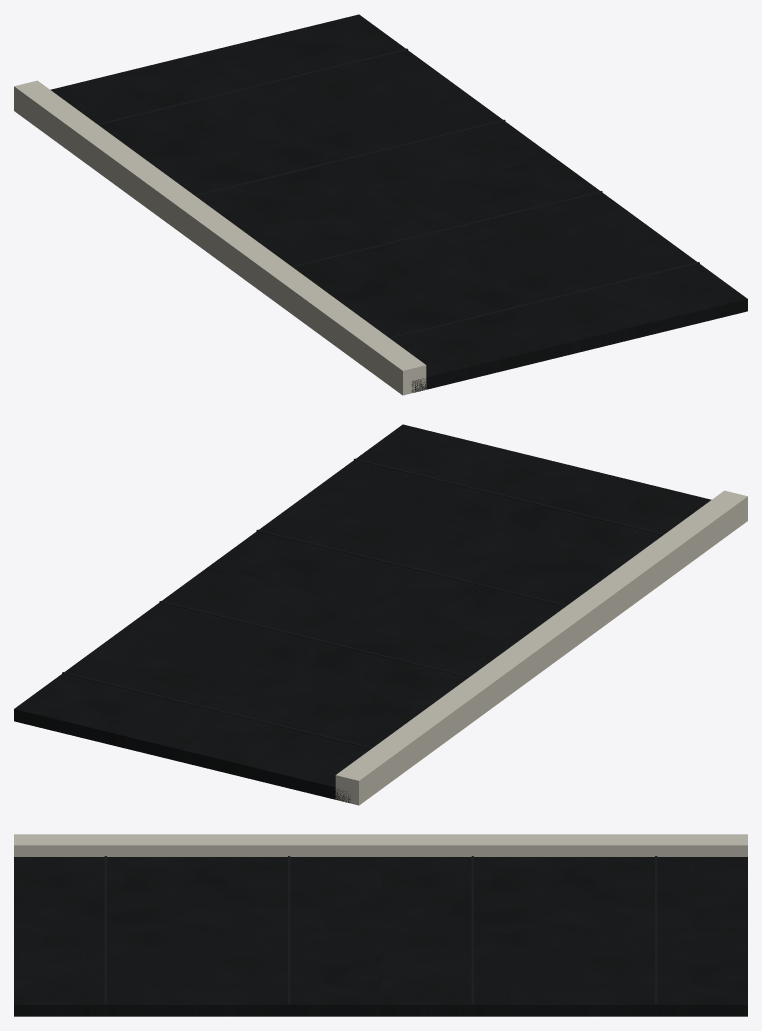
File: pavement-4m.glb
The picture shows the model from 3 angles, top to bottom: view 1: azimuth 30°, elevation 25°; view 2: azimuth 150°, elevation 25°; view 3: azimuth 270°, elevation 25°; orthographic projection. The views are drawn at different scales.
Visible parts, largest first — view 1: Pavement, Kerb, Slab seam.003, Slab seam.001, Slab seam.002, Slab seam; view 2: Pavement, Kerb, Slab seam, Slab seam.001, Slab seam.002, Slab seam.003; view 3: Pavement, Kerb, Slab seam, Slab seam.001, Slab seam.002, Slab seam.003.
Boxes of the visible parts, left/top/right/bottom form: Pavement: left=50, top=14, right=747, bottom=392; Kerb: left=14, top=80, right=426, bottom=395; Slab seam.003: left=97, top=48, right=408, bottom=125; Slab seam.001: left=292, top=191, right=602, bottom=267; Slab seam.002: left=195, top=119, right=505, bottom=196; Slab seam: left=389, top=262, right=699, bottom=338; Pavement: left=14, top=424, right=711, bottom=802; Kerb: left=335, top=490, right=747, bottom=805; Slab seam: left=353, top=458, right=664, bottom=535; Slab seam.001: left=256, top=529, right=566, bottom=606; Slab seam.002: left=159, top=601, right=469, bottom=677; Slab seam.003: left=62, top=672, right=372, bottom=748; Pavement: left=14, top=857, right=747, bottom=1016; Kerb: left=14, top=834, right=747, bottom=856; Slab seam: left=104, top=856, right=106, bottom=1004; Slab seam.001: left=288, top=856, right=290, bottom=1004; Slab seam.002: left=471, top=856, right=473, bottom=1004; Slab seam.003: left=655, top=856, right=657, bottom=1004.
Bounding box in the file's own units: 2.05 × 0.14 × 4.
Materials: 3 (1 with a texture image).
